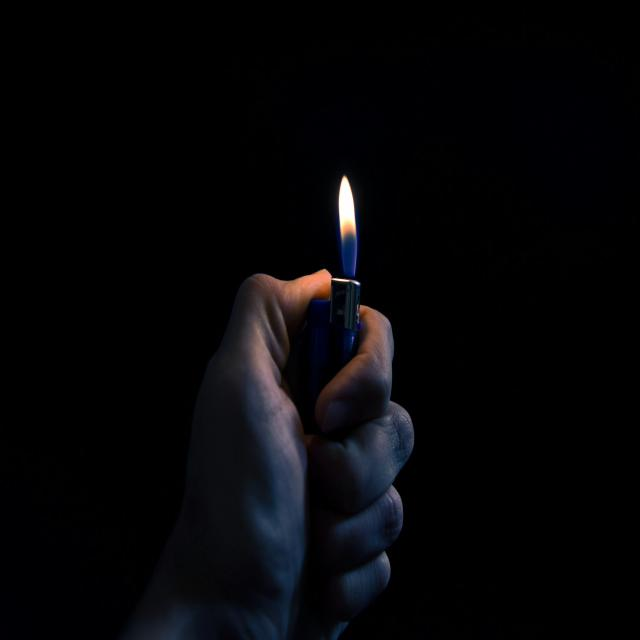fire: (339, 176, 356, 276)
